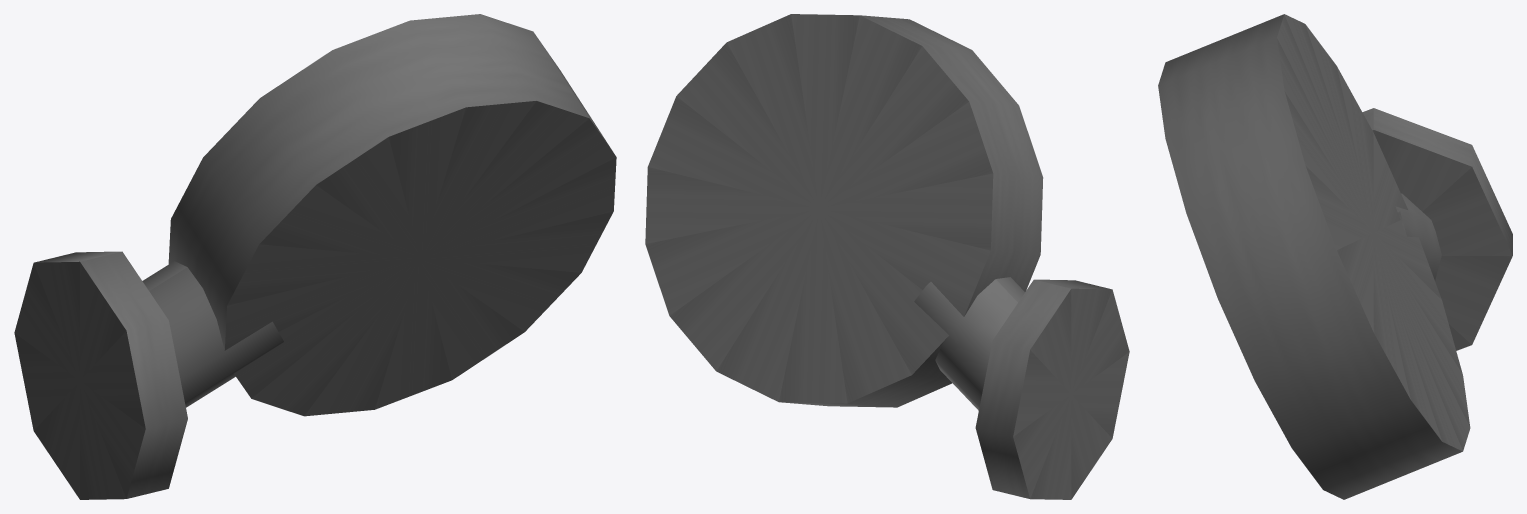
File: mastarmcurve_4x1_c0_west.obj
3 renders of one model, left to right at view 1: azimuth 30°, elevation 25°; view 2: azimuth 150°, elevation 25°; view 3: azimuth 270°, elevation 25°, orthographic. The views are drawn at different scales.
Parts seen in each view (by area): view 1: mastarm_4x1_c0_west; view 2: mastarm_4x1_c0_west; view 3: mastarm_4x1_c0_west.
Boxes of the visible parts, box(x1,y1,x2,y2) form: mastarm_4x1_c0_west: box(14, 14, 616, 499); mastarm_4x1_c0_west: box(645, 14, 1129, 499); mastarm_4x1_c0_west: box(1158, 14, 1512, 499).
Bounding box in the file's own units: 0.8392 × 0.7449 × 0.5102.
